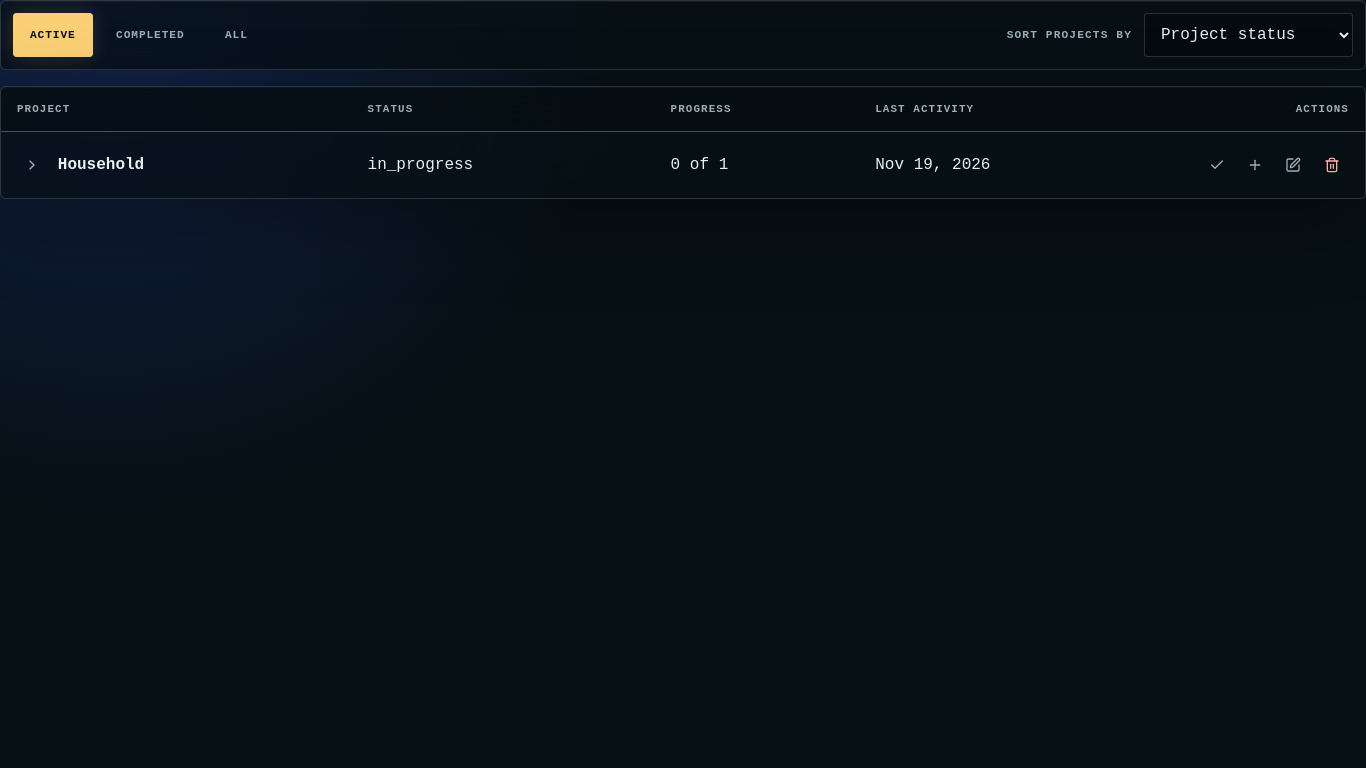
Scenario: ProjectsList selections › clears a selection when its entity disappears
Click the button named "Edit Household". click: click(1293, 165)
box: x1=1276 y1=148 x2=1311 y2=182
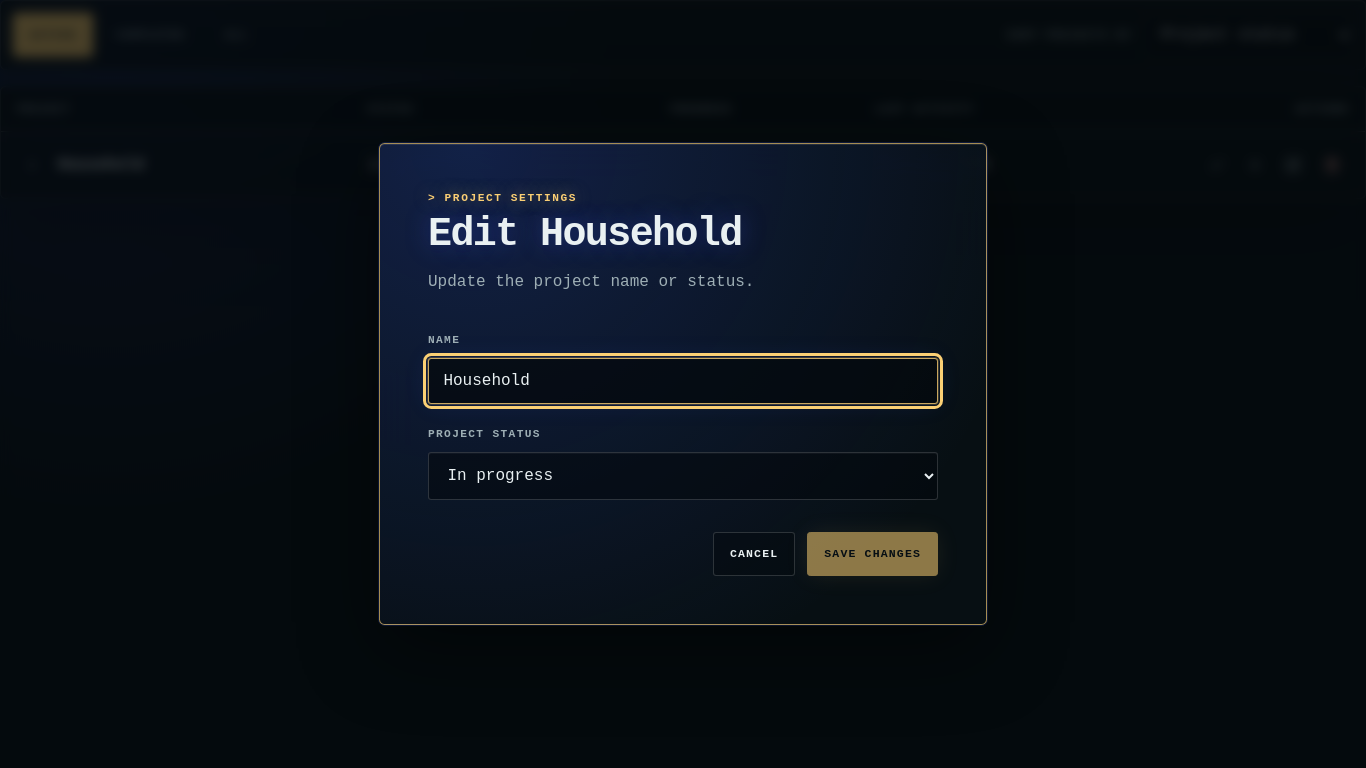
Now the dialog is shown, box x1=379 y1=143 x2=987 y2=625
